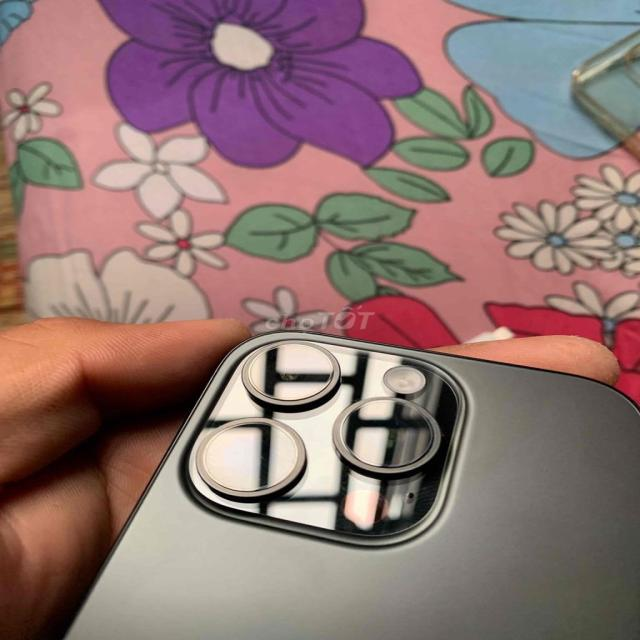gen_16: (61, 328, 640, 640)
